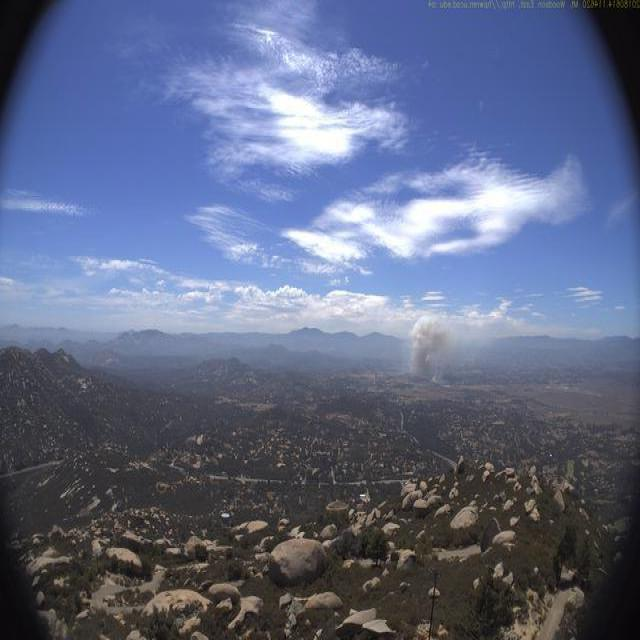Smoke: (401, 311, 467, 388)
